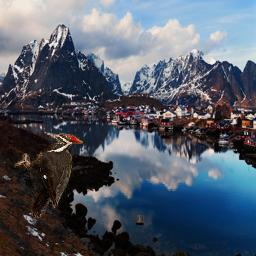Woodpecker: (15, 132, 84, 219)
